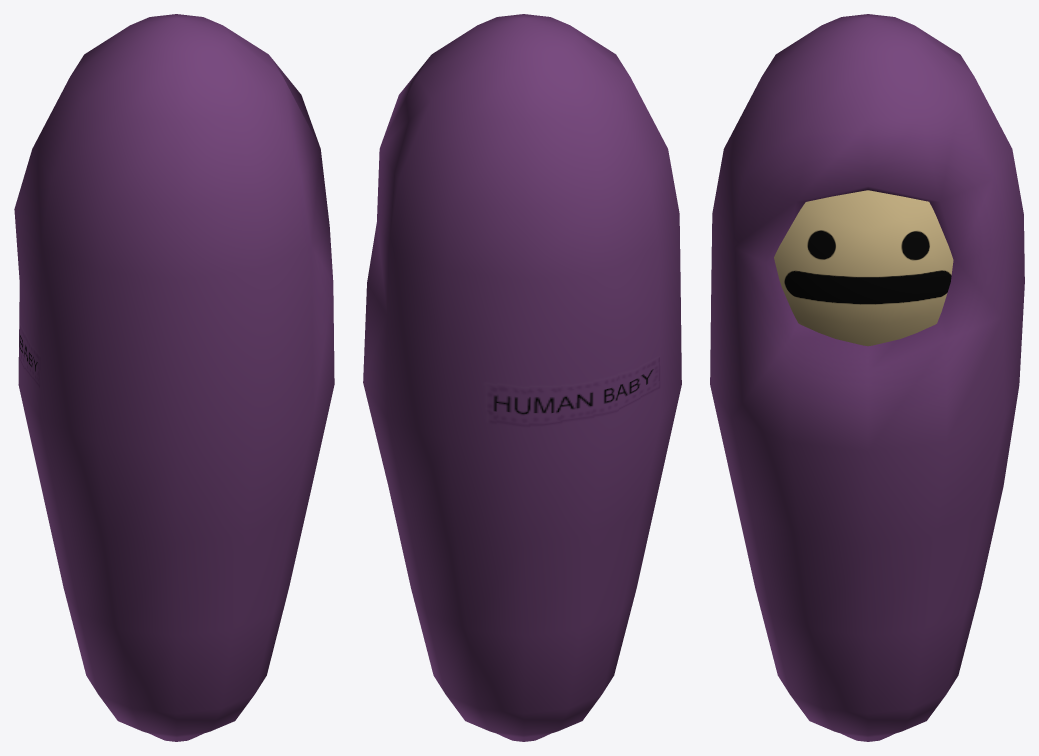
The model's file is HumanBaby.FBX.
3 views of the same model, side by side, from view 1: azimuth 30°, elevation 25°; view 2: azimuth 150°, elevation 25°; view 3: azimuth 270°, elevation 25° (orthographic).
Parts seen in each view (by area): view 1: Babbo001; view 2: Babbo001; view 3: Babbo001.
Part boxes in pixels (x1=…): Babbo001: x1=14, y1=14, x2=334, y2=741; Babbo001: x1=363, y1=14, x2=681, y2=741; Babbo001: x1=710, y1=14, x2=1024, y2=741.
Bounding box in the file's own units: 4.5 × 11.35 × 4.48.
1 material, 1 textured.
